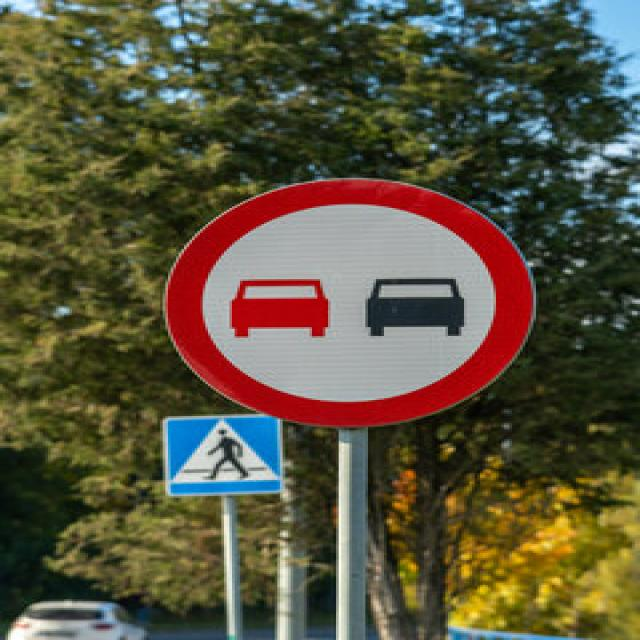no overtaking: (160, 174, 549, 436)
